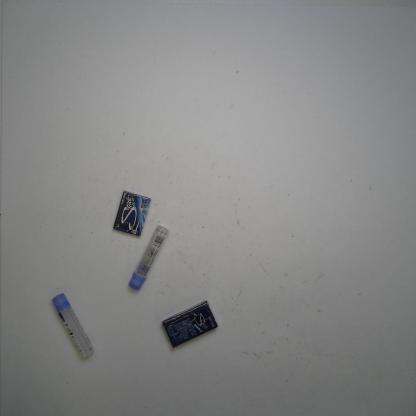Gum: (161, 299, 220, 350), (113, 189, 152, 236)
Stationery: (50, 290, 97, 361), (127, 224, 170, 291)
